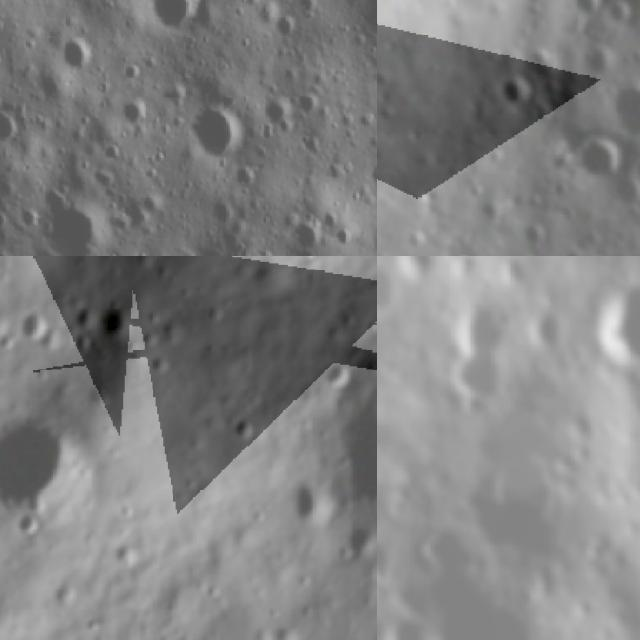crater: (0, 411, 103, 517), (415, 565, 560, 640), (320, 362, 377, 511), (488, 444, 573, 527), (591, 267, 640, 374), (37, 197, 121, 256), (444, 347, 512, 418), (438, 293, 506, 353), (572, 132, 623, 183), (604, 82, 640, 145), (192, 117, 244, 158), (488, 72, 536, 115), (148, 0, 214, 30), (286, 478, 324, 529), (380, 607, 429, 640), (225, 410, 263, 452), (17, 306, 54, 344), (98, 302, 133, 342), (61, 42, 98, 78), (10, 509, 47, 545), (319, 358, 354, 393), (377, 264, 401, 315), (609, 175, 640, 211), (601, 0, 638, 30), (515, 224, 549, 253), (377, 525, 394, 583), (0, 104, 21, 148), (565, 0, 601, 20), (295, 256, 321, 266)
